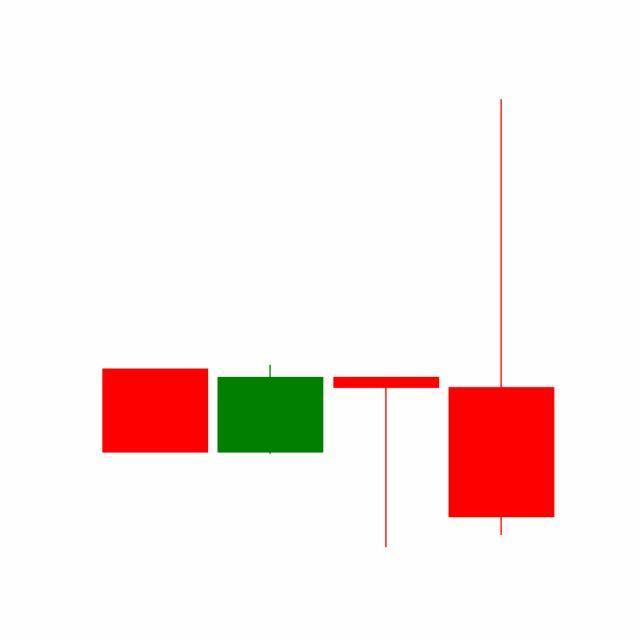Dragonfly Doji: (329, 375, 445, 551)
